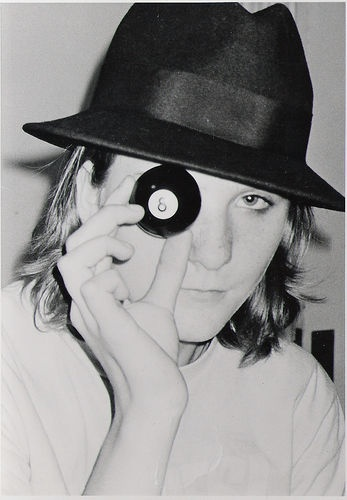head: (75, 67, 292, 344)
person: (7, 4, 336, 500)
